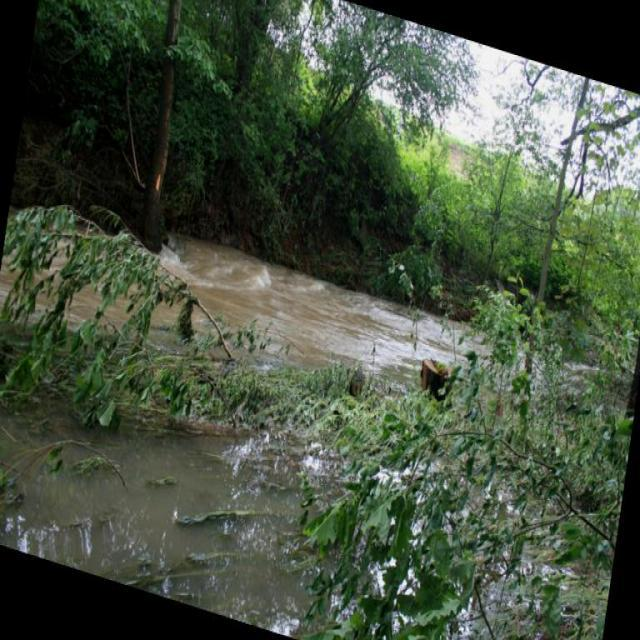flood: (0, 164, 479, 436)
